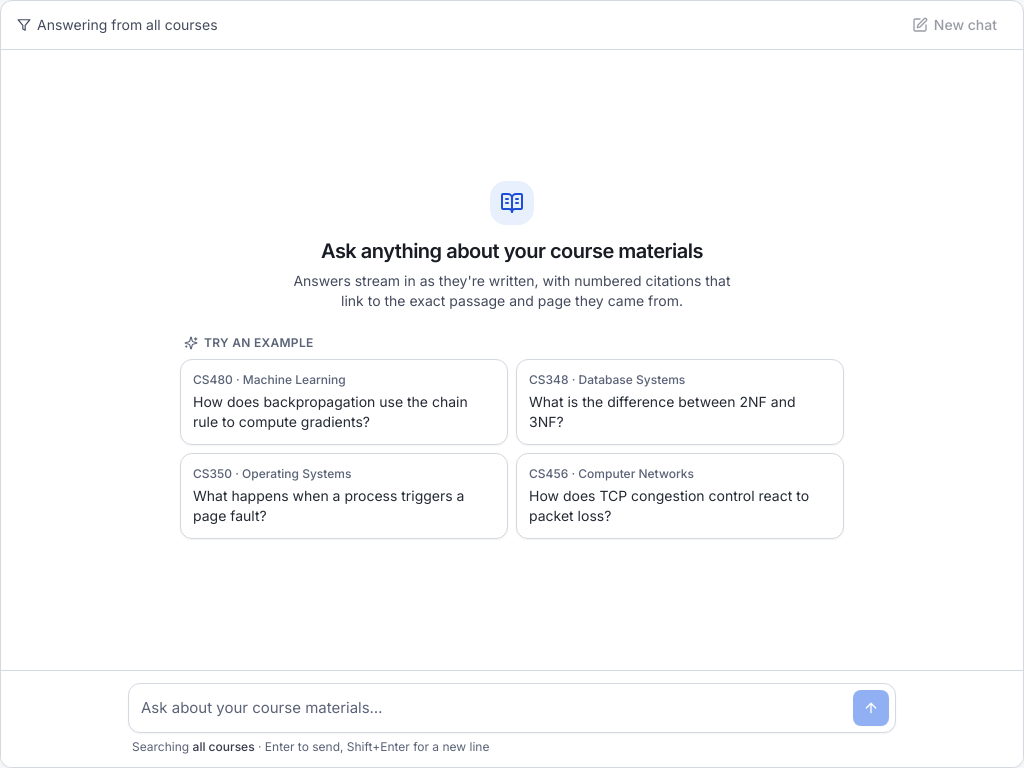
Test: ChatWindow › renders error events with message, request id and retry
In the text box named "Ask a question": (493,708) [141, 690, 845, 726], type "Why?"
Then press Enter
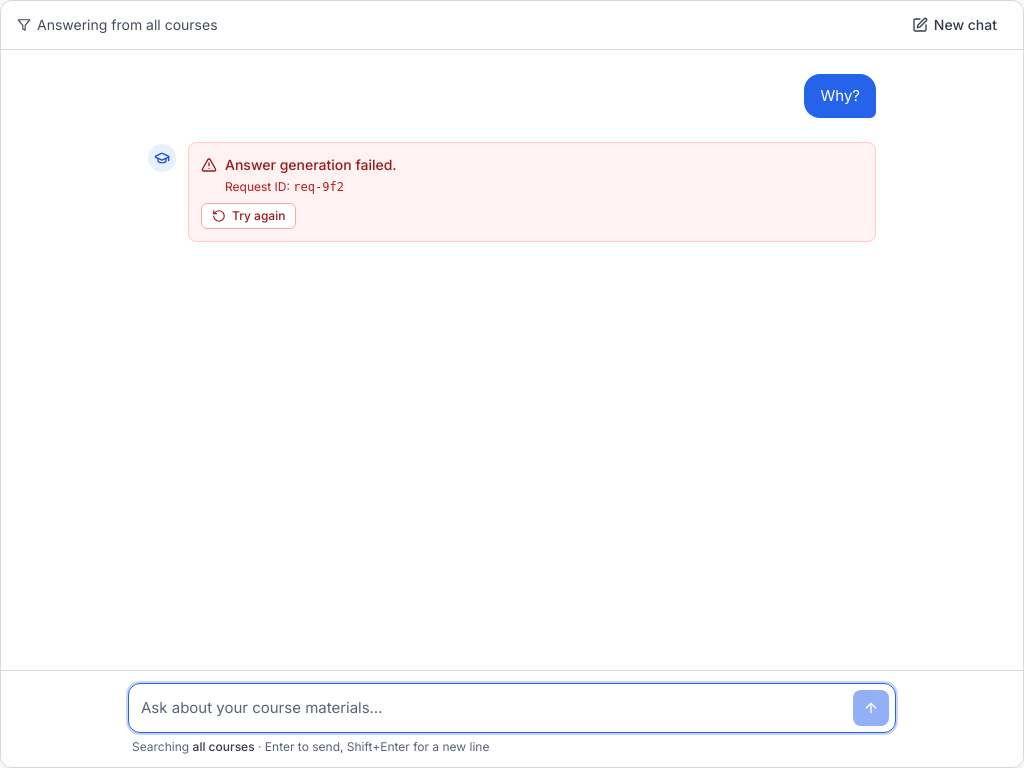
Expected: the message shows "Answer generation failed.", [225, 156, 397, 173]
Expected: the message shows "Request ID: req-9f2", [188, 142, 876, 242]
Click the button "Try again": (249,216) [201, 203, 296, 229]
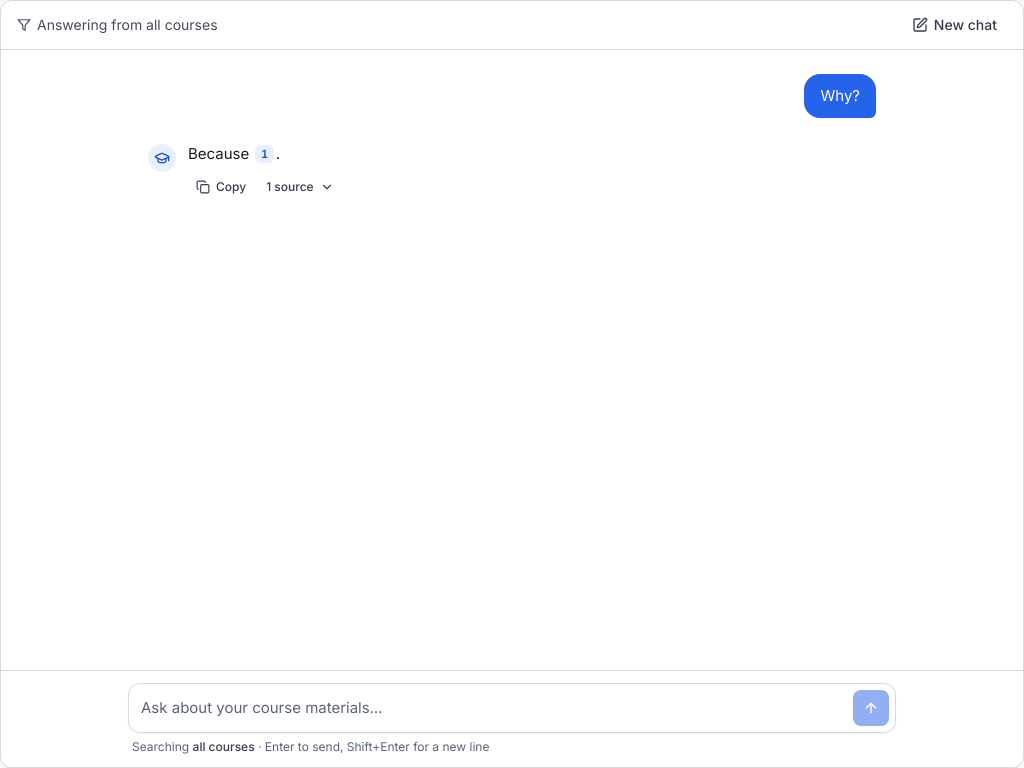
Expected: the button named "show source 1" is shown, [256, 145, 274, 164]
Expected: the message "Answer generation failed. Request ID: req-9f2 Try again" is gone
